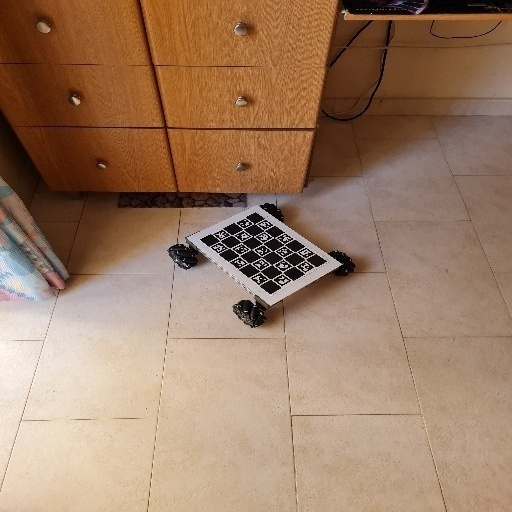Omniwheel: (168, 203, 358, 331)
